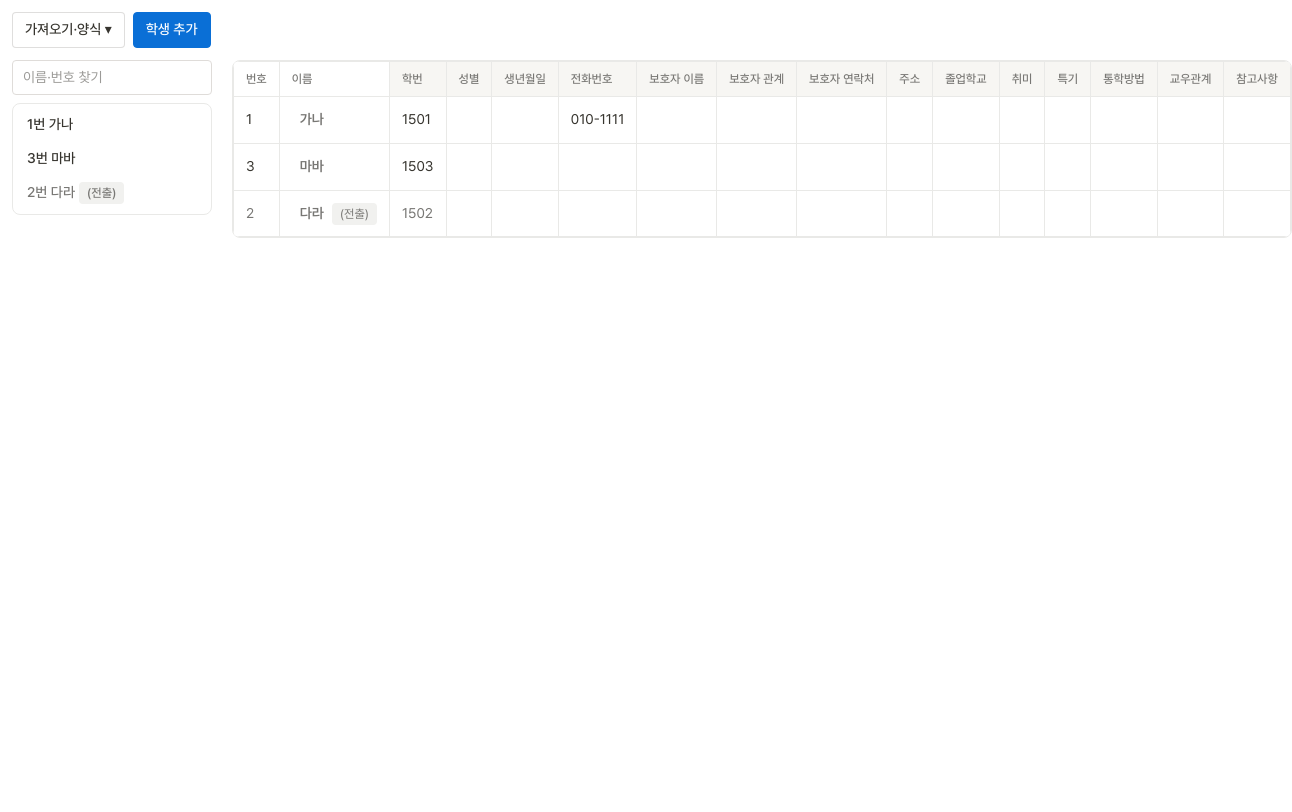
Scenario: 기본 화면은 전체 학생 표(양식 칸 순서), 학생을 누르면 상세, 다시 누르면 표로
Check: the text "010-1111" is shown, box [558,97,637,144]
Check: the text "1501" is shown, box [390,97,446,144]
Click the button "1번 가나".
click(112, 125)  # box [17,108,207,142]
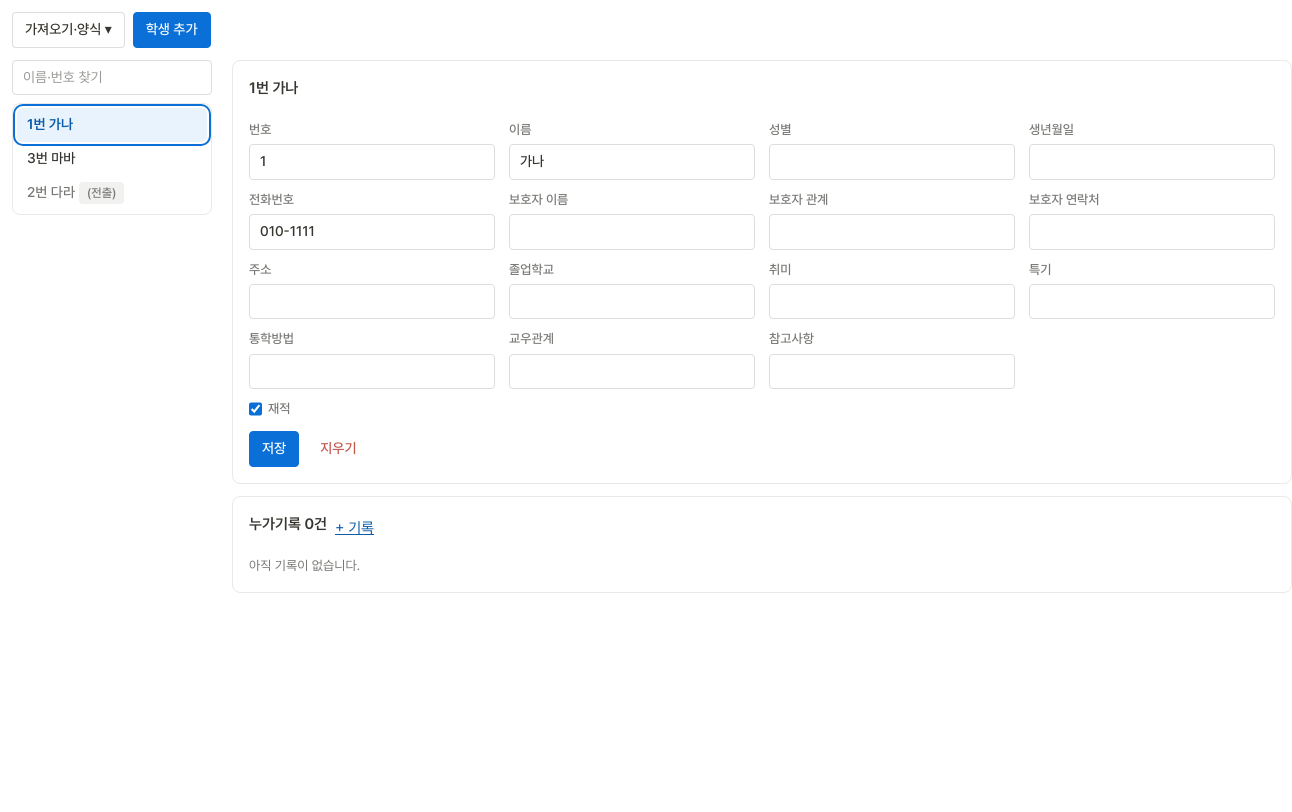
Check: the heading "1번 가나" is shown, box [249,77,298,100]
Click the button "1번 가나".
click(112, 125)  # box [17,108,207,142]
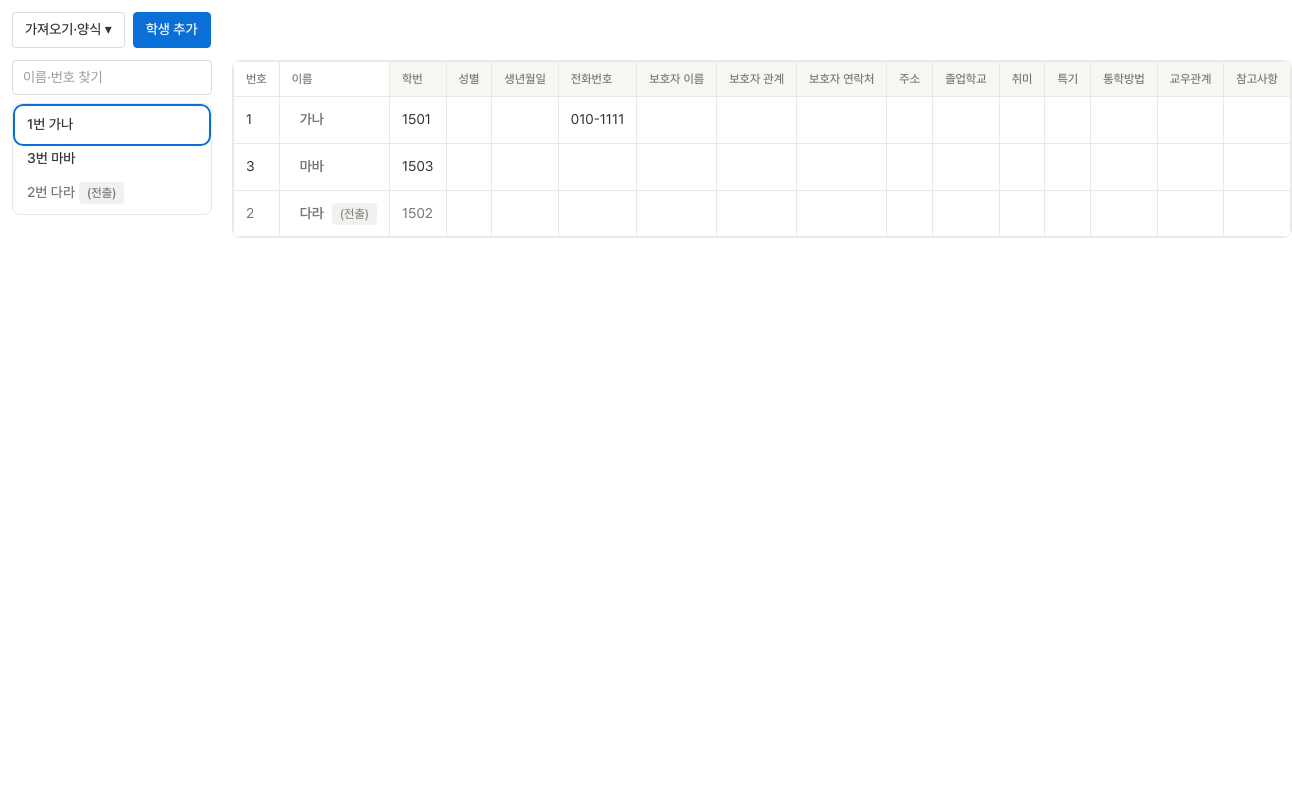
Check: the table named "학생 전체" is shown, box [233,61,1291,237]
# 표의 줄을 눌러도 그 학생 상세로
Click the button with aria-label "3번 마바 자세히".
click(312, 167)  # box [292,152,332,182]
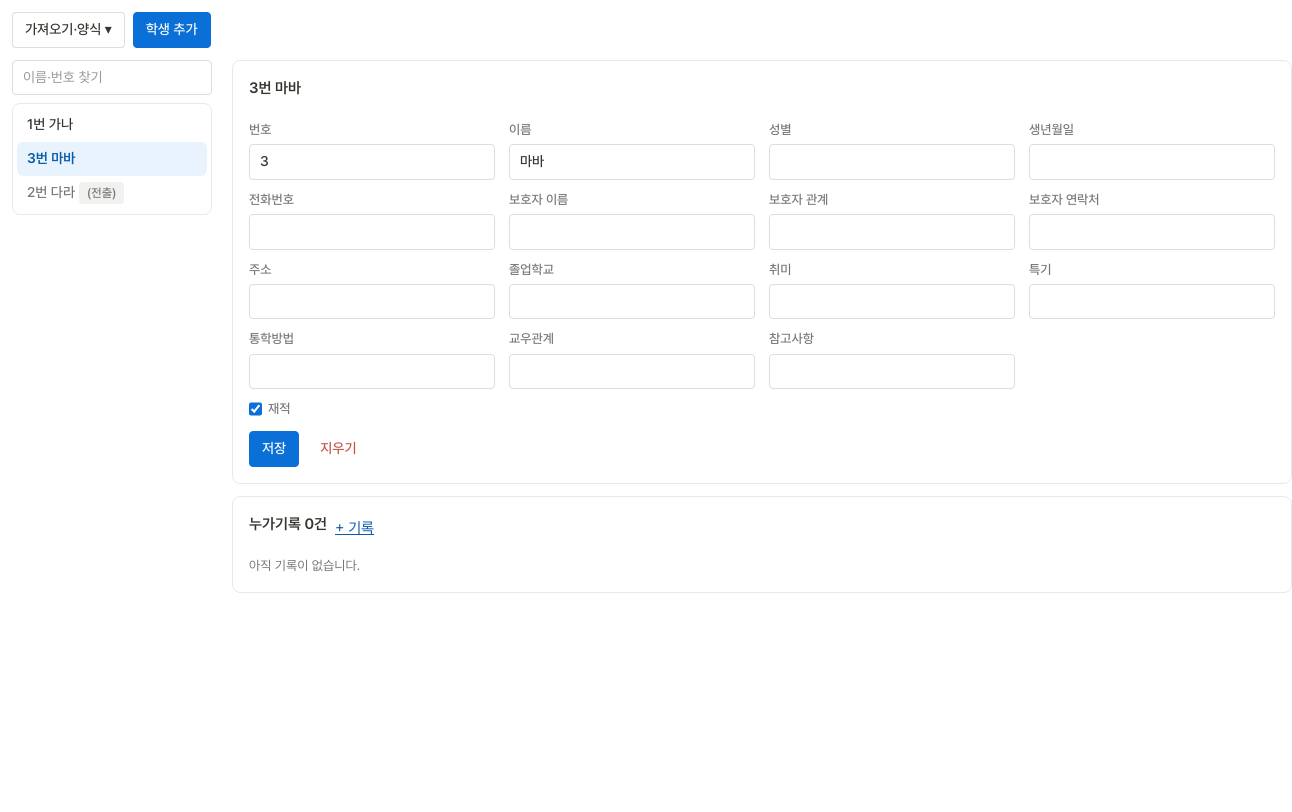
Check: the heading "3번 마바" is shown, box [249,77,301,100]
